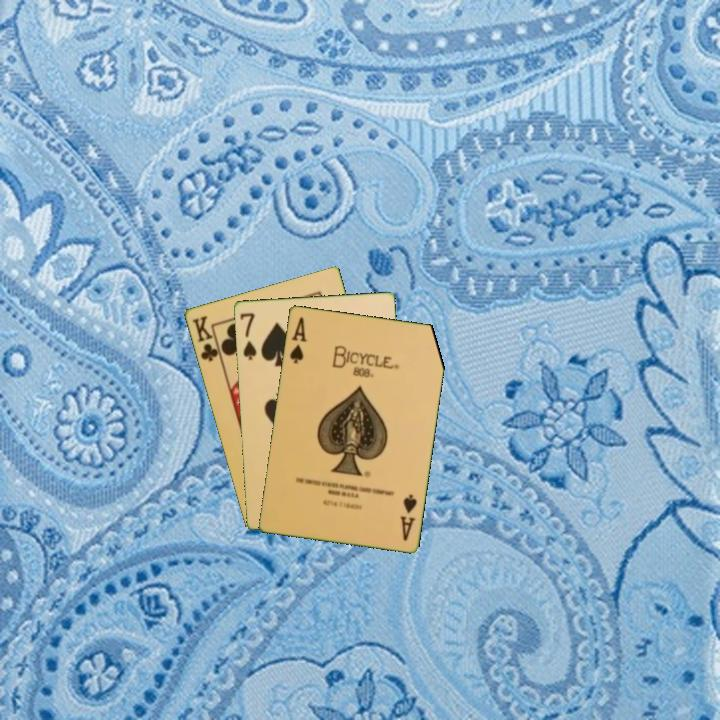7s: (236, 309, 259, 362)
As: (286, 313, 310, 366), (396, 490, 419, 543)
Kc: (188, 312, 224, 364)
